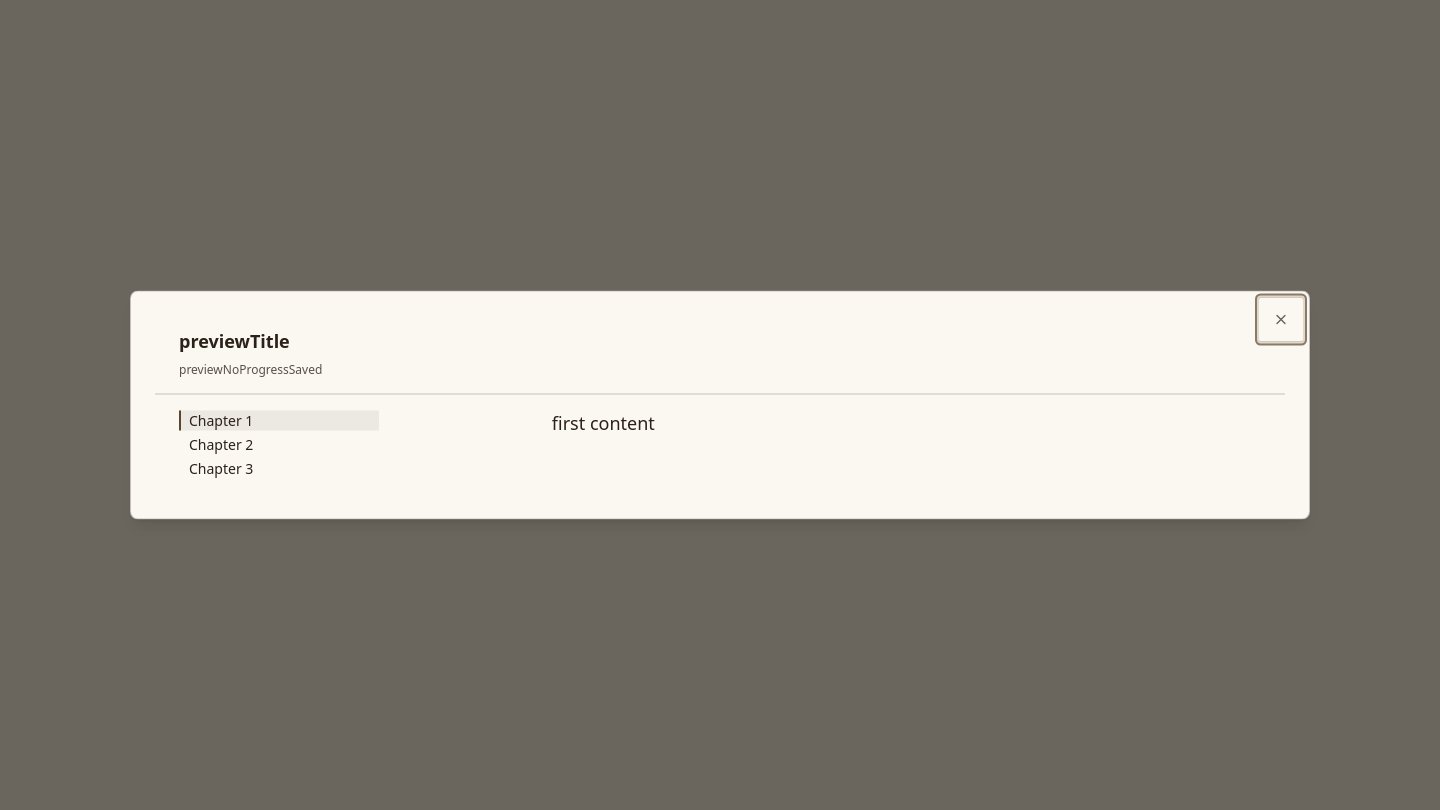
Scenario: BookPreviewDialog — request ordering › opens the portion named by a TOC entry
The image size is (1440, 810).
Expected: the text "first content" is shown, [552,410,655,434]
Click the button "Chapter 3" at (279, 468), box [179,458,379,478]
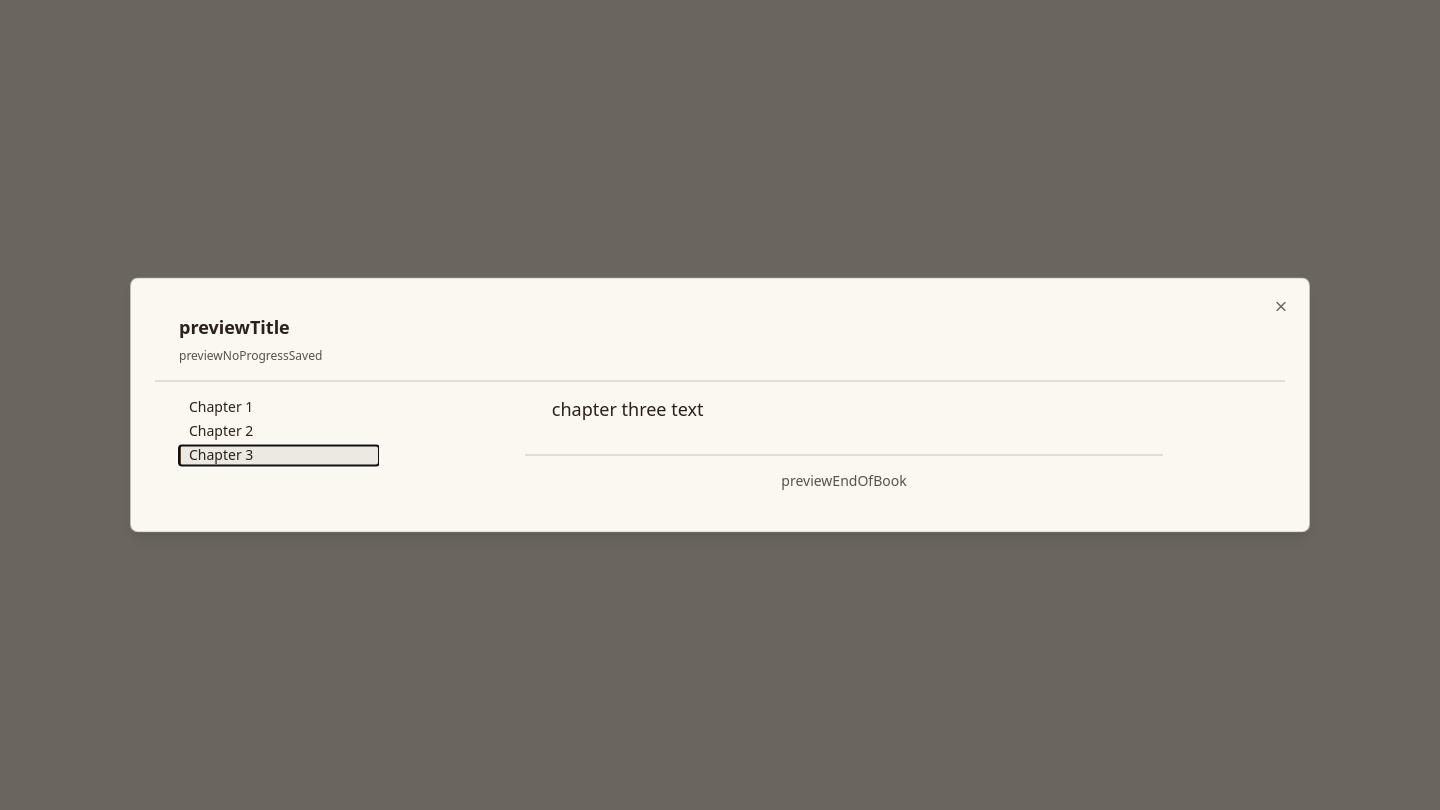
Now the text "chapter three text" is shown, box [552,397,704,421]
Now the text with test id "first-portion" is gone
